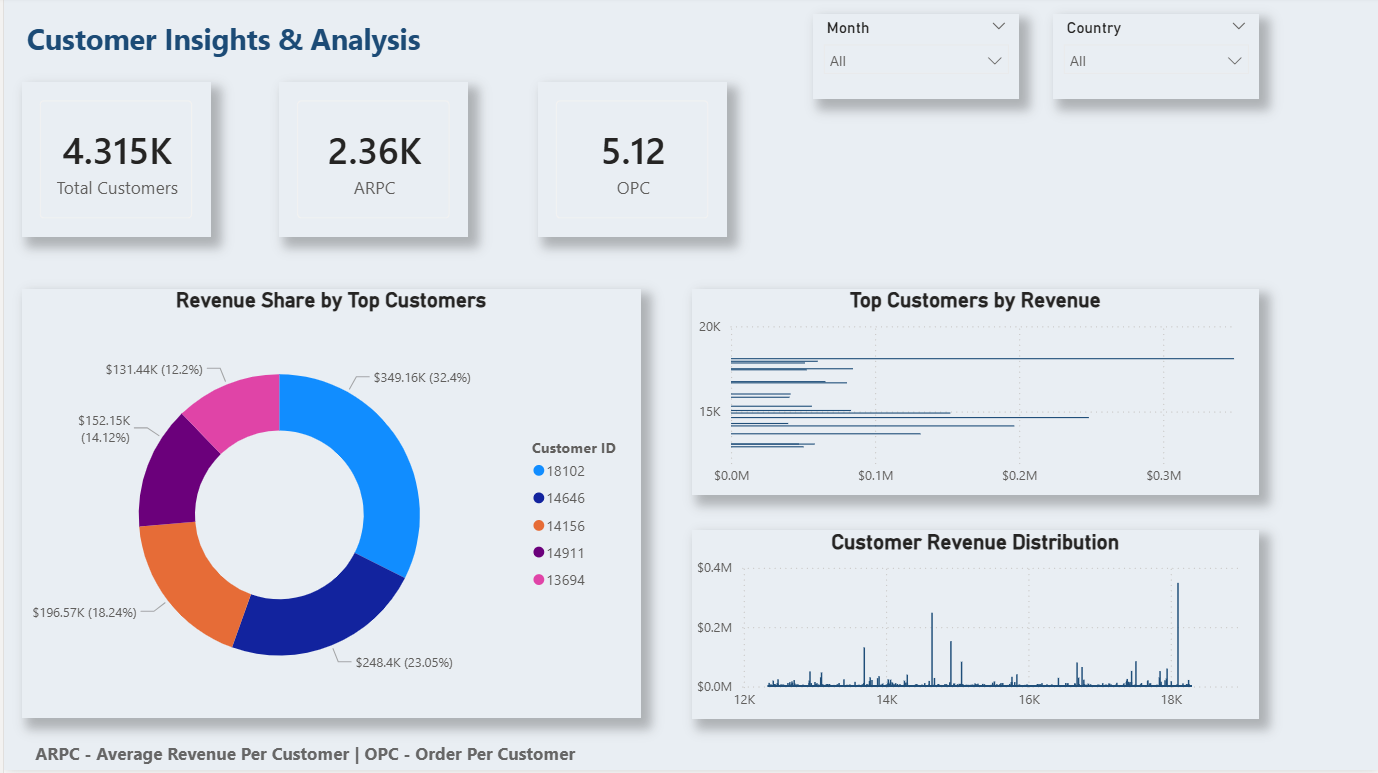

The page's visual inventory and layout, read from the dashboard file:
{"tool":"powerbi","page":{"name":"Customer Analysis","canvas":[1280,720],"ordinal":2},"visuals":[{"type":"slicer","fields":{"Values":["retail_powerbi_data.Country"]},"box":[976,16,192,80],"z":0},{"type":"slicer","fields":{"Values":["retail_powerbi_data.Month"]},"box":[752,16,192,80],"z":1000},{"type":"textbox","box":[16,16,400,48],"z":2000},{"type":"clusteredBarChart","title":"Top Customers by Revenue","fields":{"Category":["retail_powerbi_data.Customer ID"],"Y":["Key Measures.Revenue"]},"box":[640,272,528,192],"z":3000},{"type":"clusteredColumnChart","title":"Customer Revenue Distribution","fields":{"Category":["retail_powerbi_data.Customer ID"],"Y":["Key Measures.Revenue"]},"box":[640,496,528,176],"z":4000},{"type":"donutChart","title":"Revenue Share by Top Customers","fields":{"Category":["retail_powerbi_data.Customer ID"],"Y":["Key Measures.Revenue"]},"box":[16,272,576,400],"z":5000},{"type":"textbox","box":[16,688,528,32],"z":6000},{"type":"cardVisual","fields":{"Data":["Count(retail_powerbi_data.Customer ID)"]},"box":[16,80,176,144],"z":7000},{"type":"cardVisual","fields":{"Data":["Key Measures.Avg Revenue per Customer"]},"box":[256,80,176,144],"z":8000},{"type":"cardVisual","fields":{"Data":["Key Measures.Avg Orders per Customer"]},"box":[496,80,176,144],"z":9000}]}

Visuals, with their boxes in screenshot pixels (x1, y1, x2, y2), scaled from the page's 1280x720 canvas onto the 1378x773 screenshot:
slicer - retail_powerbi_data.Country: BBox(1051, 17, 1257, 103)
slicer - retail_powerbi_data.Month: BBox(810, 17, 1016, 103)
textbox: BBox(17, 17, 448, 69)
"Top Customers by Revenue" clusteredBarChart: BBox(689, 292, 1257, 498)
"Customer Revenue Distribution" clusteredColumnChart: BBox(689, 533, 1257, 721)
"Revenue Share by Top Customers" donutChart: BBox(17, 292, 637, 721)
textbox: BBox(17, 739, 586, 772)
cardVisual - Count(retail_powerbi_data.Customer ID): BBox(17, 86, 207, 240)
cardVisual - Key Measures.Avg Revenue per Customer: BBox(276, 86, 465, 240)
cardVisual - Key Measures.Avg Orders per Customer: BBox(534, 86, 723, 240)
